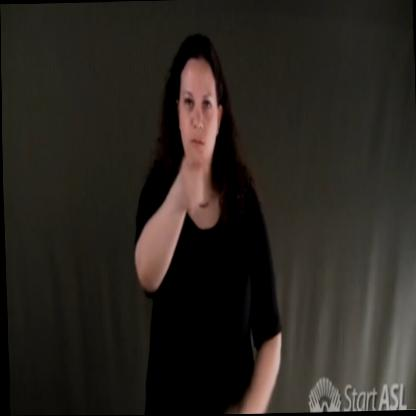NiceToMeetYou: (166, 127, 222, 237)
